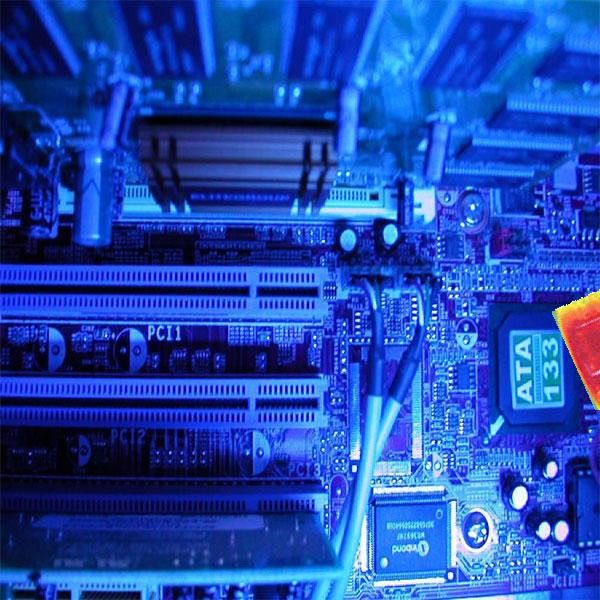componente_T: (548, 286, 600, 414)
